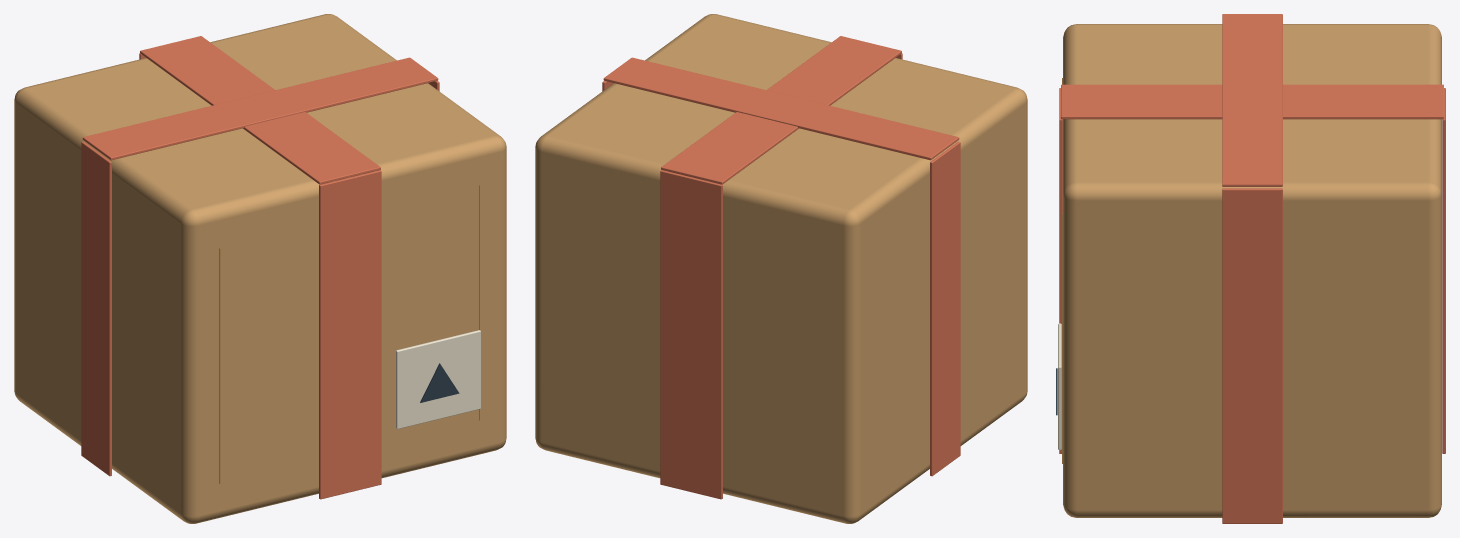
Rendered from play-parcel-large.glb.
3 renders of one model, left to right at view 1: azimuth 30°, elevation 25°; view 2: azimuth 150°, elevation 25°; view 3: azimuth 270°, elevation 25°, orthographic. The views are drawn at different scales.
Visible parts, largest first — view 1: Parcel_Carton, Parcel_Tape_Front_Back_0.095, Parcel_Tape_Top_Cross, Parcel_Tape_Sides_-0.1, Parcel_Tape_Top_Length, Parcel_Paper_Label, Parcel_Label_Mountain; view 2: Parcel_Carton, Parcel_Tape_Front_Back_-0.095, Parcel_Tape_Top_Cross, Parcel_Tape_Sides_-0.1, Parcel_Tape_Top_Length; view 3: Parcel_Carton, Parcel_Tape_Sides_0.1, Parcel_Tape_Top_Length, Parcel_Tape_Top_Cross, Parcel_Tape_Front_Back_-0.095, Parcel_Tape_Front_Back_0.095, Parcel_Paper_Label.
Boxes of the visible parts, <box> form: Parcel_Carton: <box>14,14,506,523</box>; Parcel_Tape_Front_Back_0.095: <box>319,170,381,499</box>; Parcel_Tape_Top_Cross: <box>82,57,438,160</box>; Parcel_Tape_Sides_-0.1: <box>81,141,111,476</box>; Parcel_Tape_Top_Length: <box>140,36,380,184</box>; Parcel_Paper_Label: <box>395,330,480,429</box>; Parcel_Label_Mountain: <box>420,363,459,402</box>; Parcel_Carton: <box>535,14,1027,523</box>; Parcel_Tape_Front_Back_-0.095: <box>660,170,722,499</box>; Parcel_Tape_Top_Cross: <box>603,57,959,160</box>; Parcel_Tape_Sides_-0.1: <box>930,141,960,476</box>; Parcel_Tape_Top_Length: <box>661,36,901,184</box>; Parcel_Carton: <box>1063,24,1441,517</box>; Parcel_Tape_Sides_0.1: <box>1222,188,1282,523</box>; Parcel_Tape_Top_Length: <box>1061,84,1443,119</box>; Parcel_Tape_Top_Cross: <box>1222,14,1282,186</box>; Parcel_Tape_Front_Back_-0.095: <box>1442,88,1445,453</box>; Parcel_Tape_Front_Back_0.095: <box>1059,88,1062,453</box>; Parcel_Paper_Label: <box>1058,323,1061,450</box>.
Bounding box in the file's own units: 0.2037 × 0.1877 × 0.1952.
